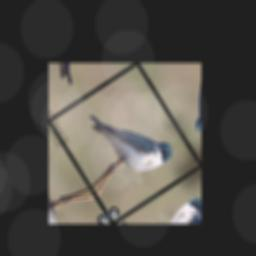Swallow: (85, 85, 177, 187)
